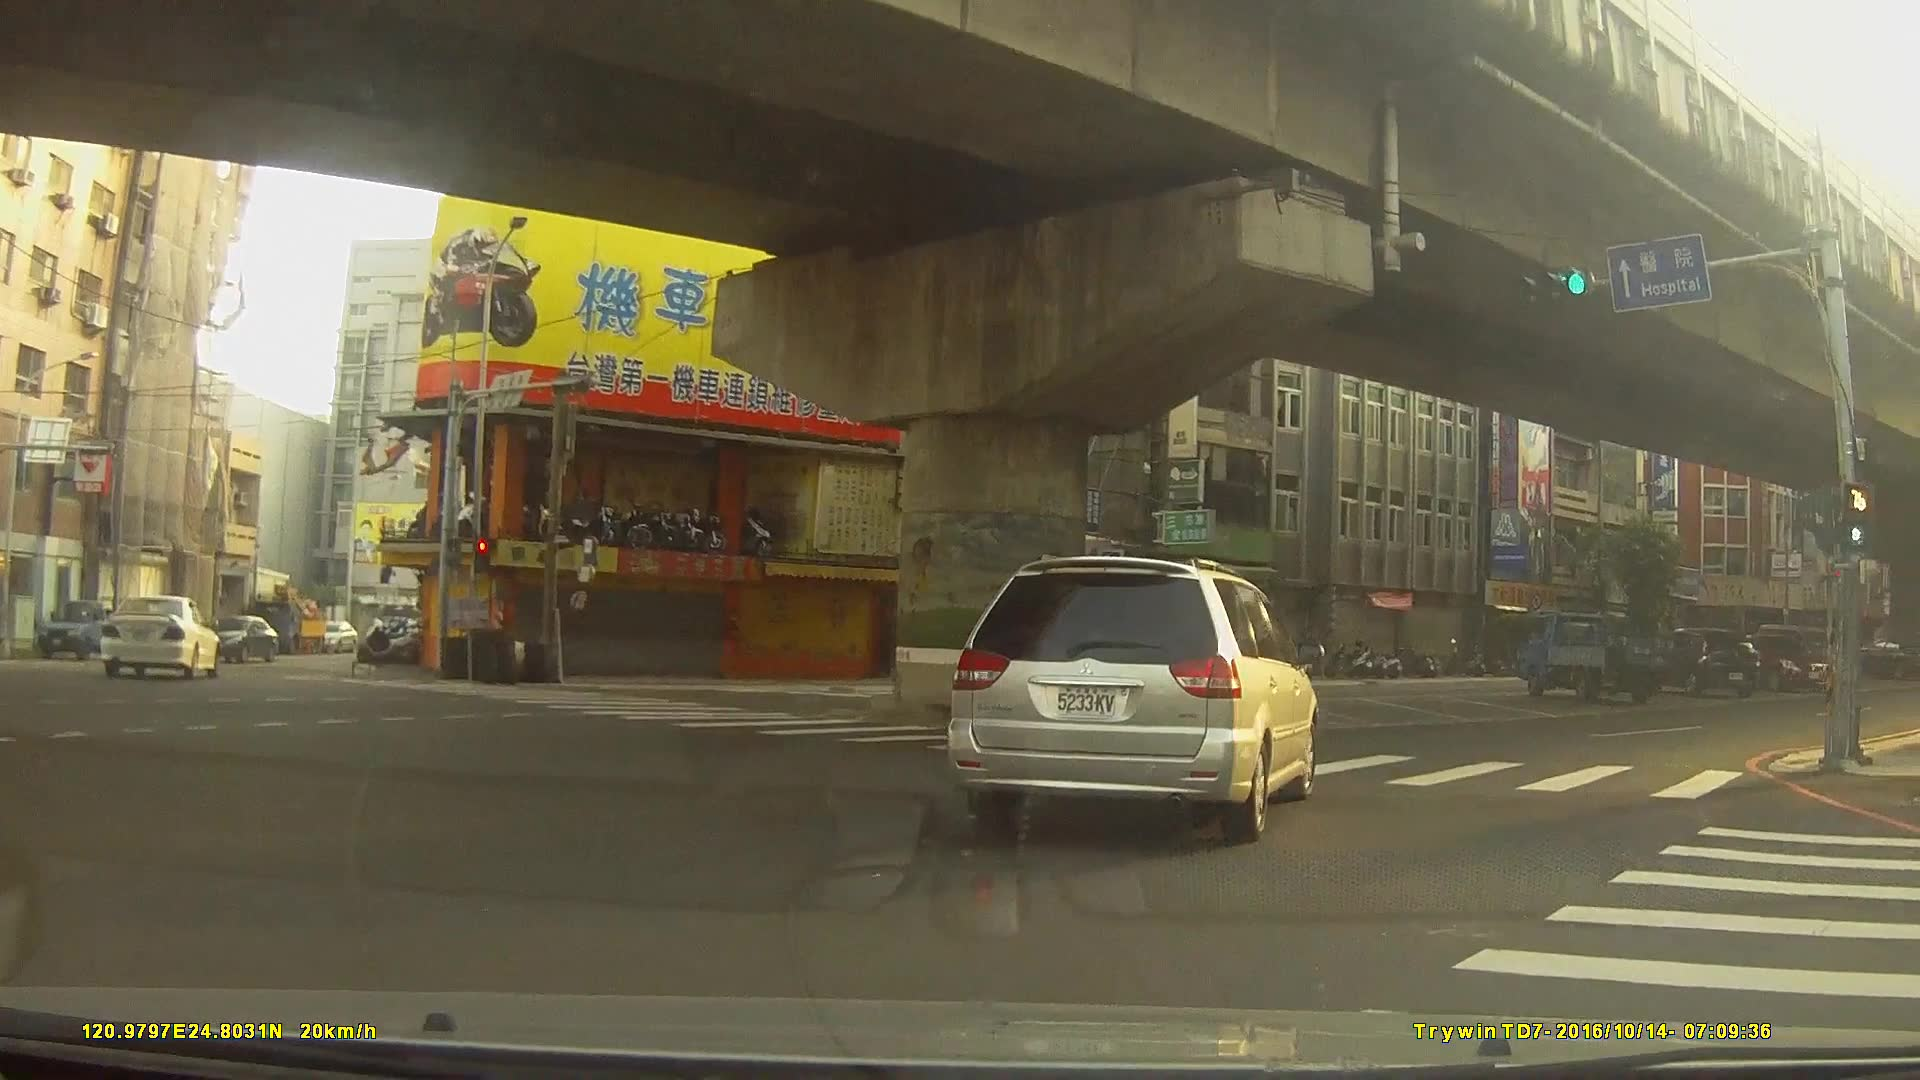vehicle: (945, 555, 1317, 843), (1515, 609, 1676, 704), (96, 593, 219, 680), (1636, 624, 1762, 694), (1731, 630, 1828, 691), (38, 596, 127, 657), (204, 612, 276, 659), (315, 618, 357, 650)
